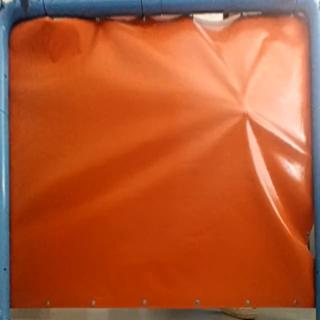Hit-hRxx: (243, 106, 252, 118)
